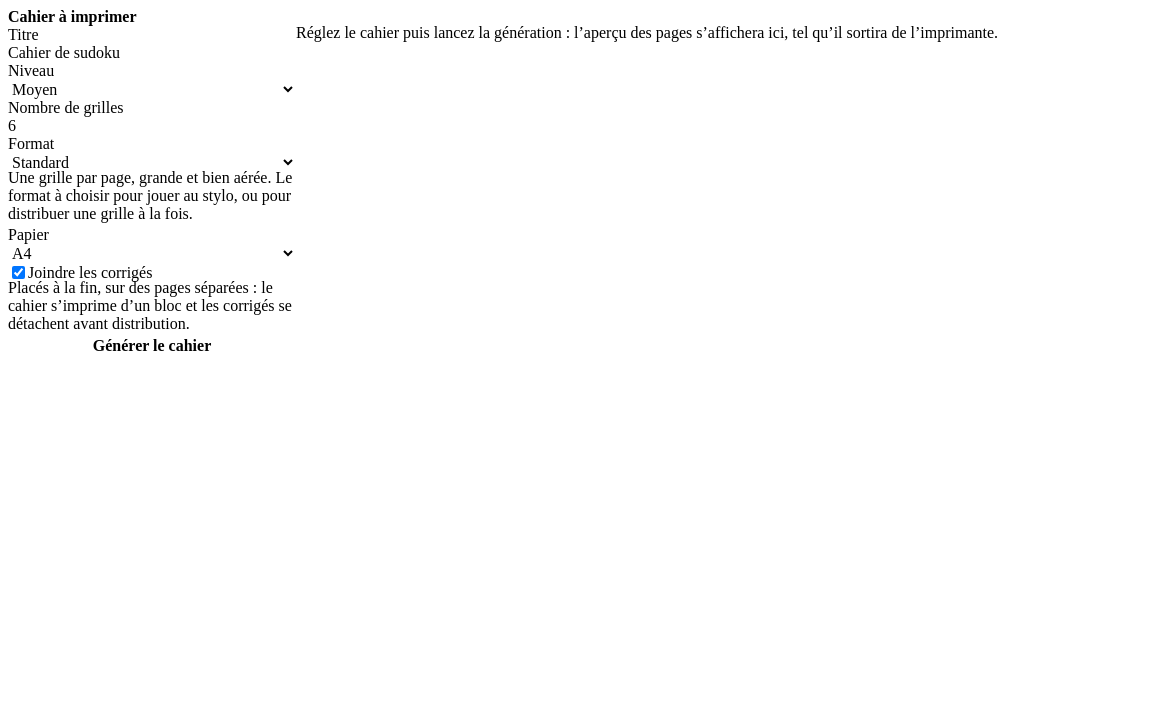
Test: le studio du cahier de sudoku › s’arrête tout de suite, en tuant le moteur
This screenshot has width=1152, height=720.
Select "Facile" in the dropdown labelled "Niveau" at (152, 90), box [8,80,296,99]
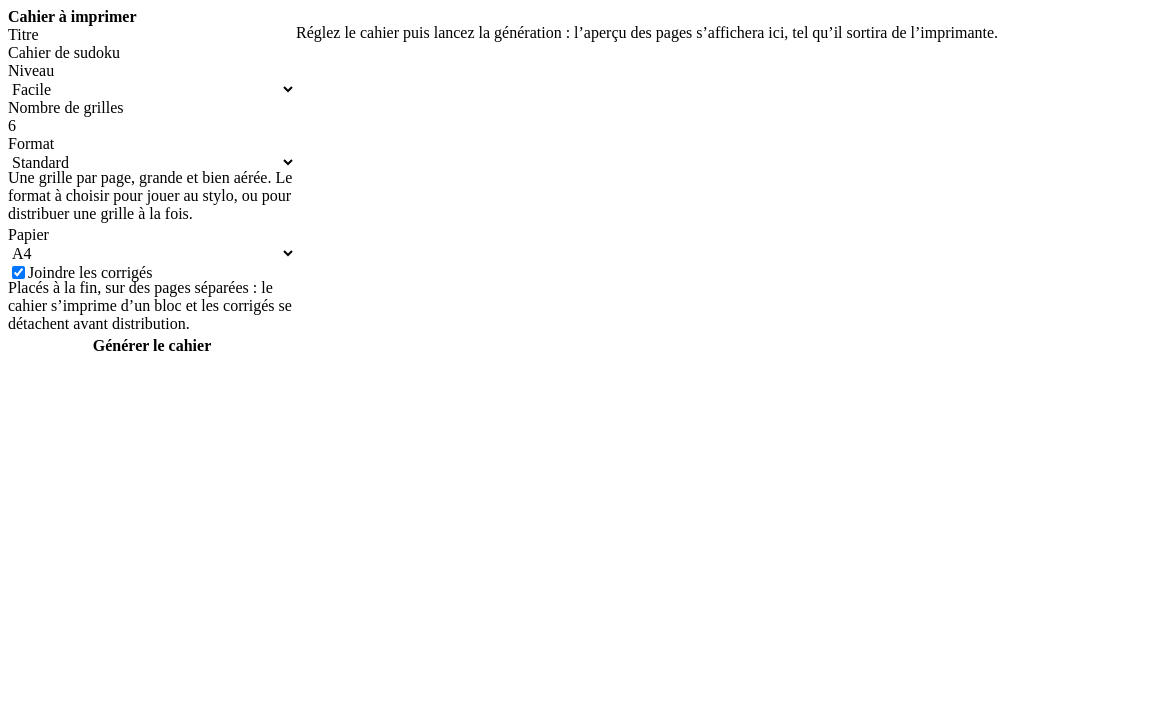
Replace the text in the number field labelled "Nombre de grilles" with "20" at (152, 126), box [8,117,296,135]
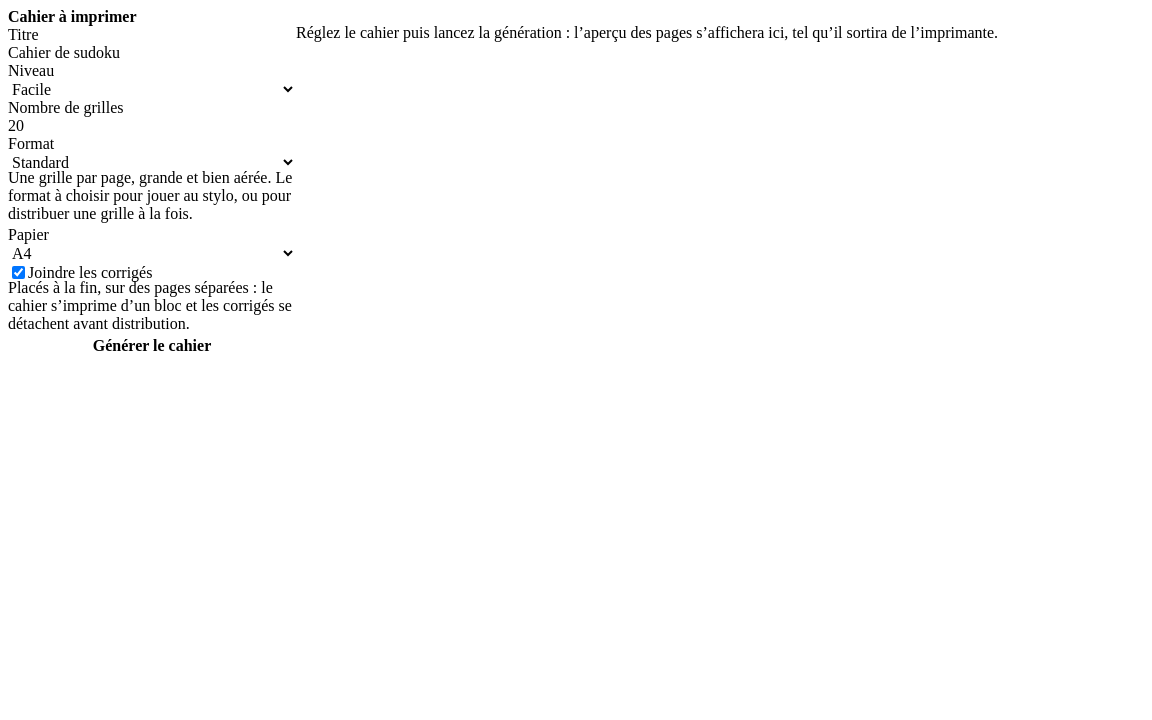
Click the button "Générer le cahier".
click(152, 346)  # box [8,336,296,356]
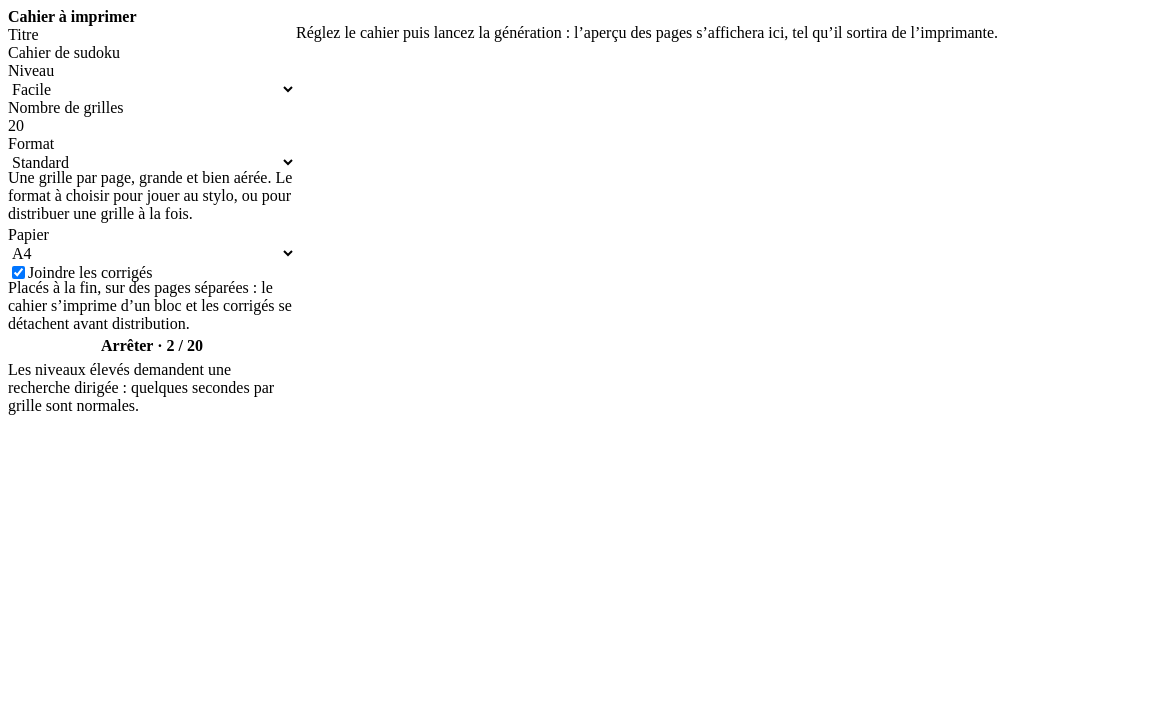
Click the button "Arrêter · 2 / 20".
click(152, 346)  # box [8,336,296,356]
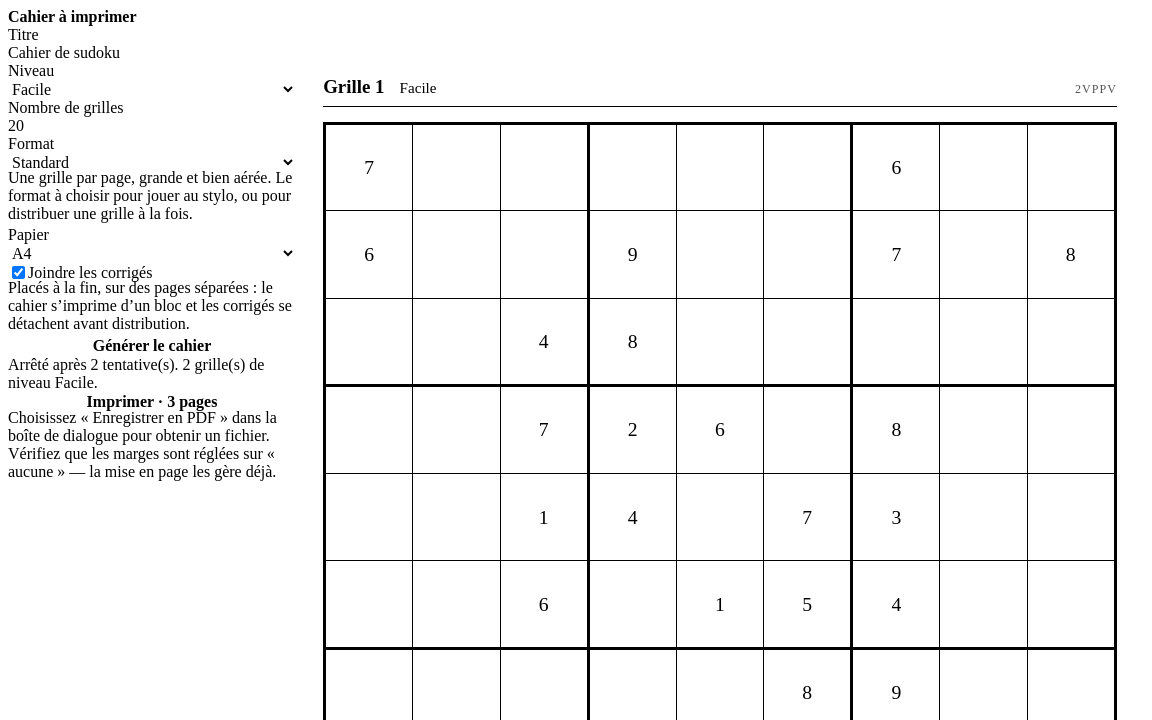
Check: the message with class "notice" shows "Arrêté après 2 tentative(s).", box [8,356,264,391]
Check: the message with class "notice" shows "2 grille(s) de niveau Facile.", box [8,356,264,391]
